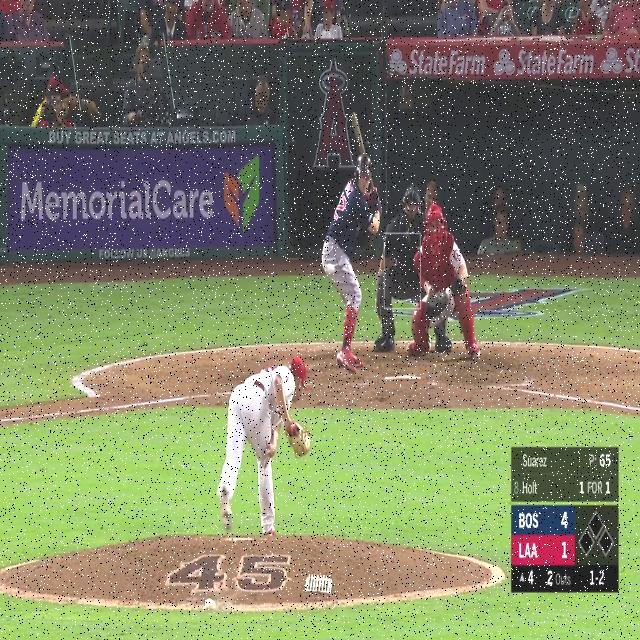baseball: (326, 263, 335, 274)
